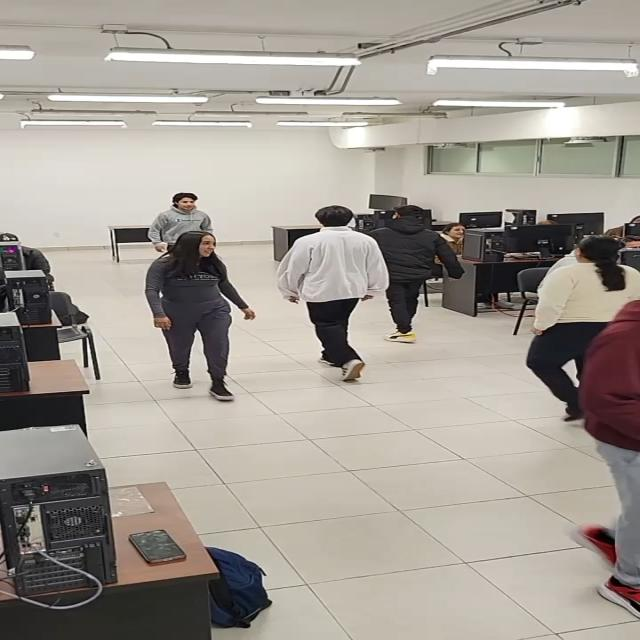Persona: (148, 232, 247, 395), (296, 205, 369, 386), (552, 232, 640, 372), (382, 202, 438, 342), (141, 184, 222, 233)
